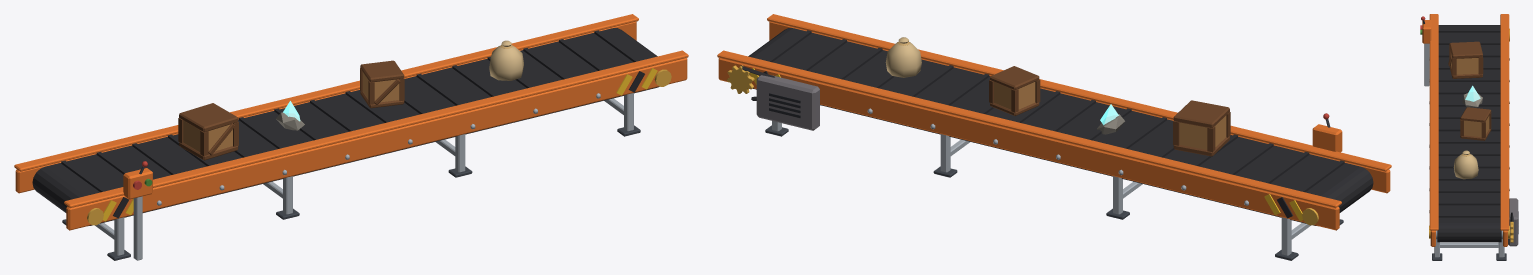
File: prop_conveyor.glb
3 renders of one model, left to right at view 1: azimuth 30°, elevation 25°; view 2: azimuth 150°, elevation 25°; view 3: azimuth 270°, elevation 25°, orthographic. The views are drawn at different scales.
Parts seen in each view (by area): view 1: Conveyor; view 2: Conveyor; view 3: Conveyor.
Boxes of the visible parts, x1,y1,x2,y2 form: Conveyor: [14, 14, 688, 260]; Conveyor: [717, 14, 1391, 260]; Conveyor: [1420, 14, 1518, 260].
Size of what is drawn, in the model's own units: 7.9 by 1.23 by 1.53.
